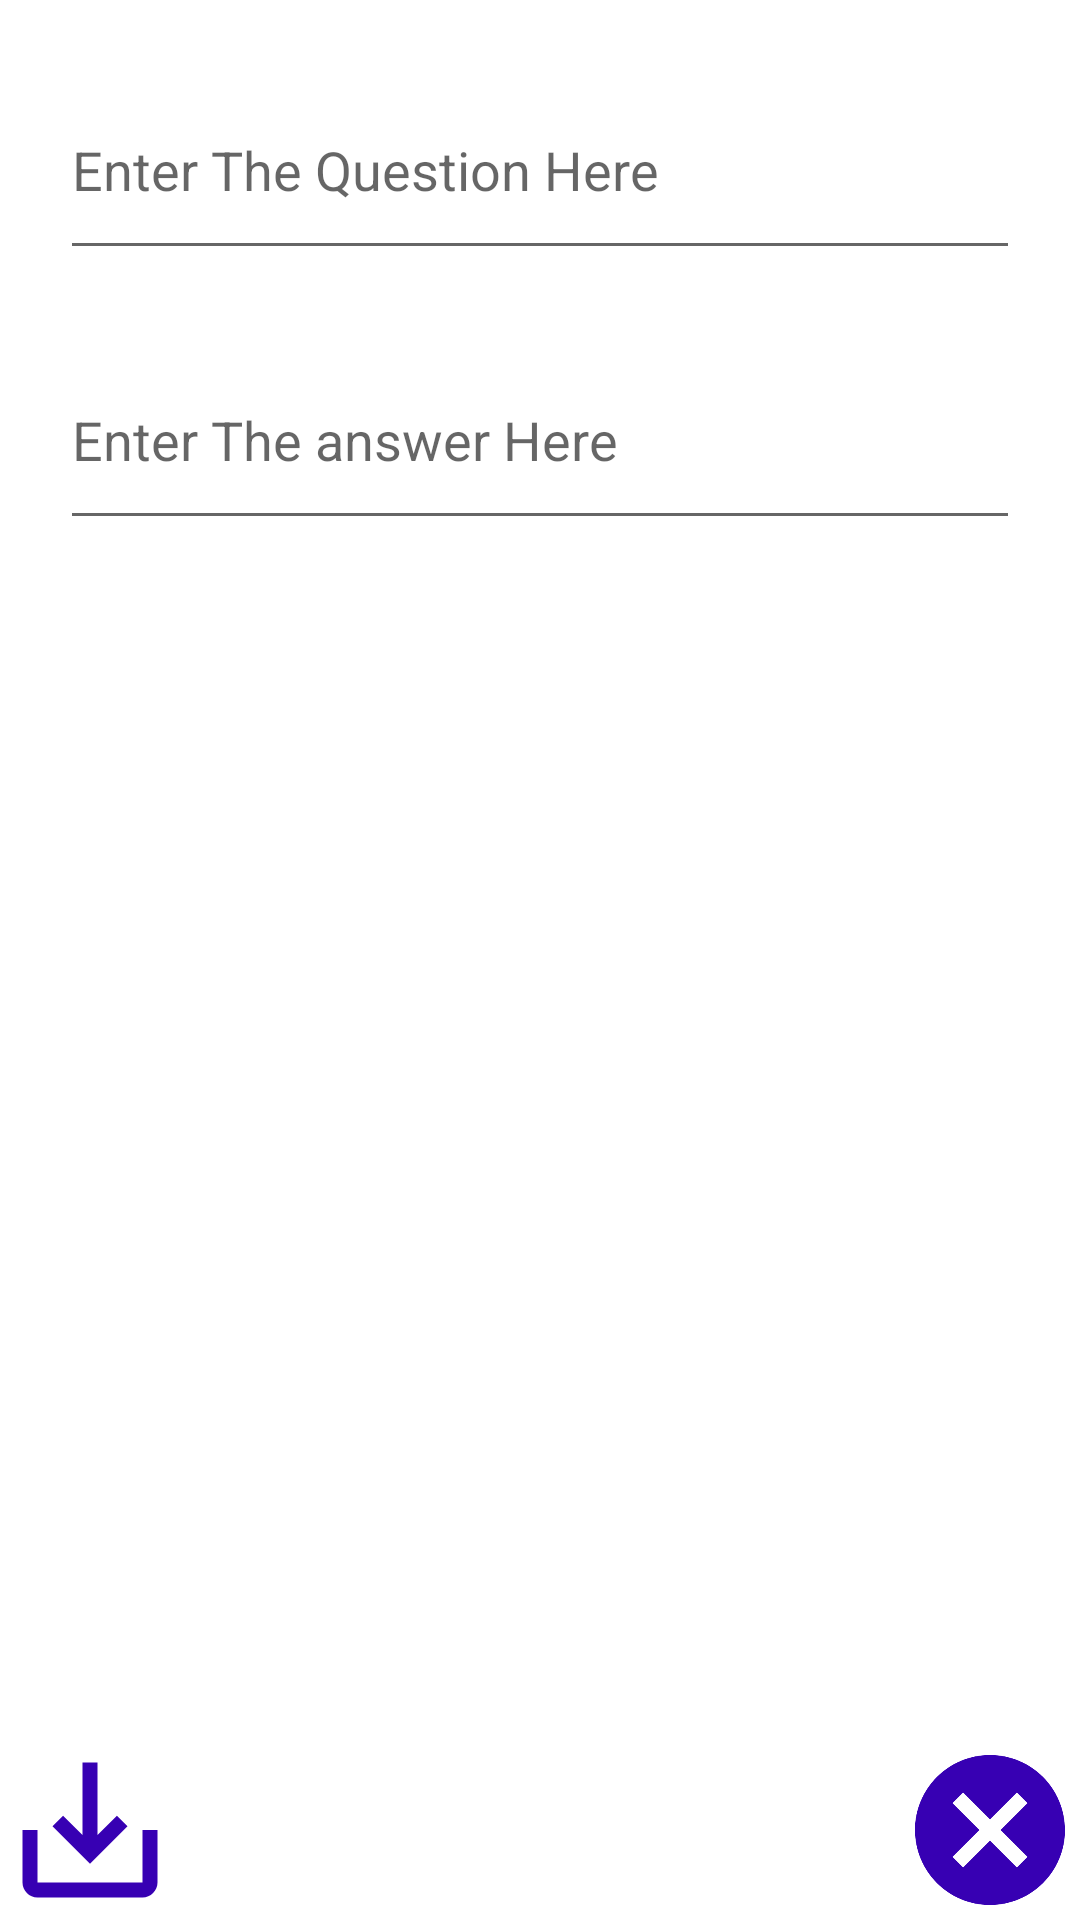

Point at icon controls on the screen. Image size 1080x1920, points as (x,y).
cancel: (990,1830)
save: (90,1830)
